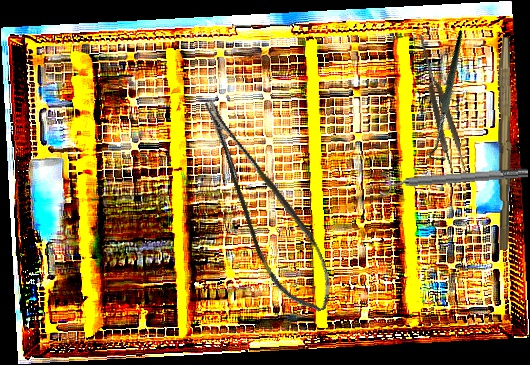Fixation Ring: (378, 161, 529, 197)
Hook Surgical: (384, 29, 517, 167)
Micro Scissor: (196, 82, 344, 326)
Scalpel Handle: (494, 37, 514, 250)
Tissue Forceps: (412, 32, 471, 186)
